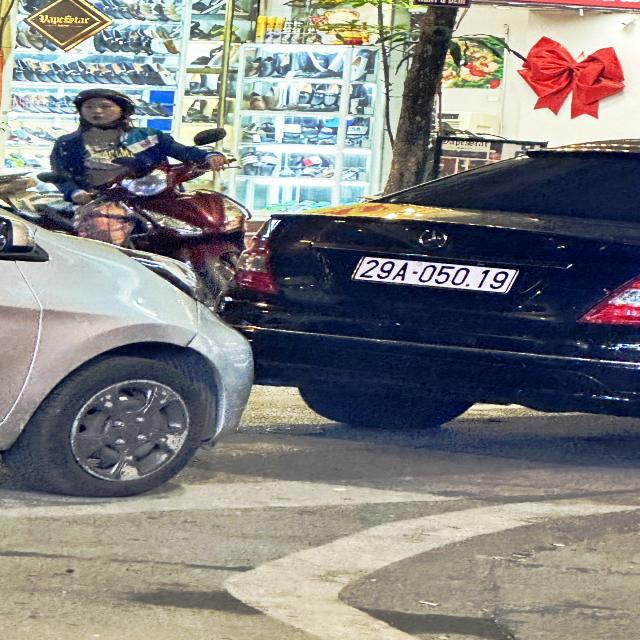license_plate: (345, 253, 530, 297)
